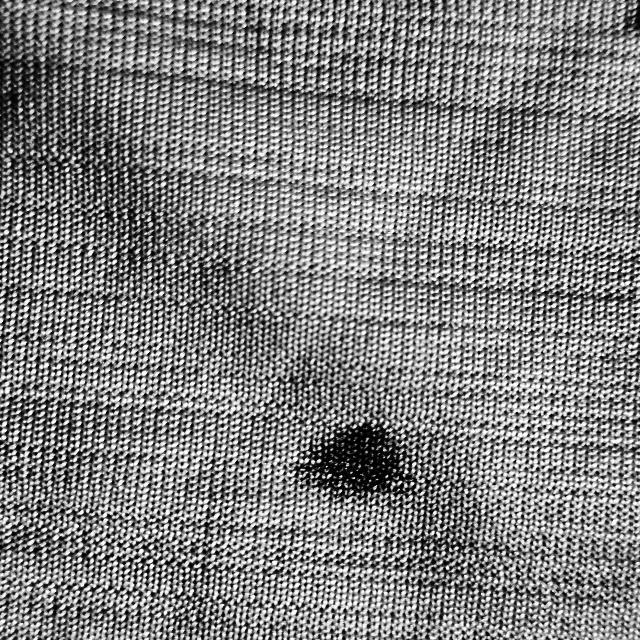Color_defect: (299, 419, 404, 501)
